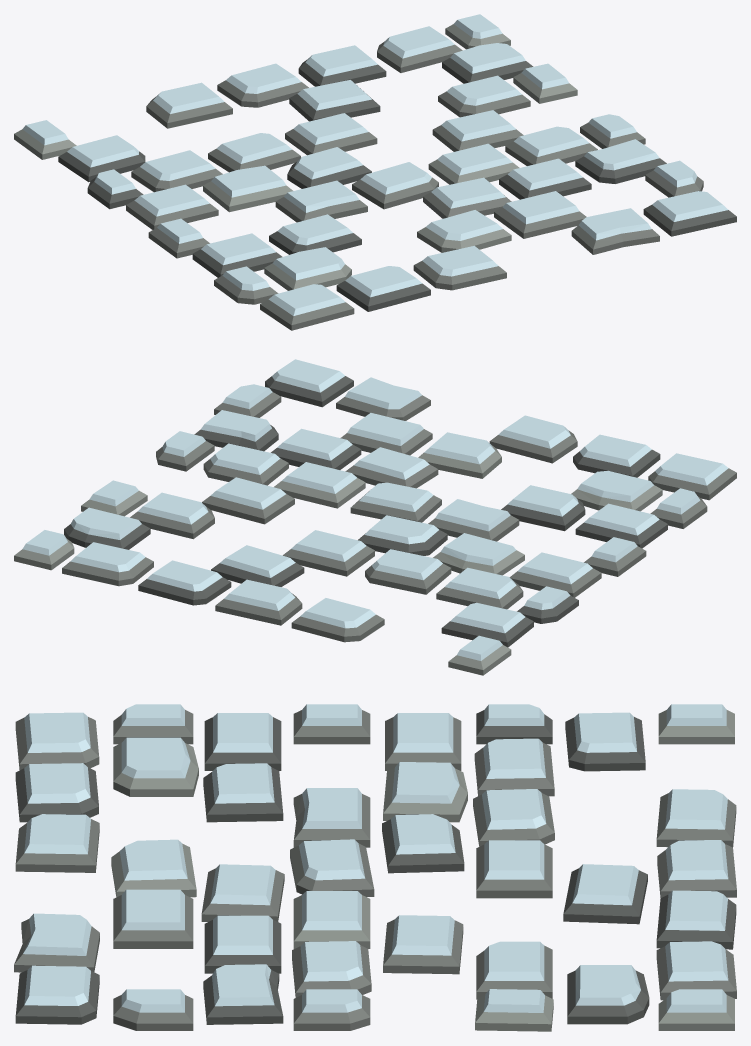
The model's file is SM_Env_Path_Cobble_02_Snow.gltf.
3 renders of one model, top to bottom at view 1: azimuth 30°, elevation 25°; view 2: azimuth 150°, elevation 25°; view 3: azimuth 270°, elevation 25°, orthographic. The views are drawn at different scales.
Visible parts, largest first — view 1: SM_Env_Path_Cobble_02_Snow; view 2: SM_Env_Path_Cobble_02_Snow; view 3: SM_Env_Path_Cobble_02_Snow.
Part boxes in pixels (left/top/right/bottom): SM_Env_Path_Cobble_02_Snow: left=14, top=14, right=736, bottom=330; SM_Env_Path_Cobble_02_Snow: left=14, top=359, right=736, bottom=675; SM_Env_Path_Cobble_02_Snow: left=14, top=704, right=736, bottom=1031.
Bounding box in the file's own units: 3.01 × 0.0982 × 2.96.
1 material, 1 textured.
